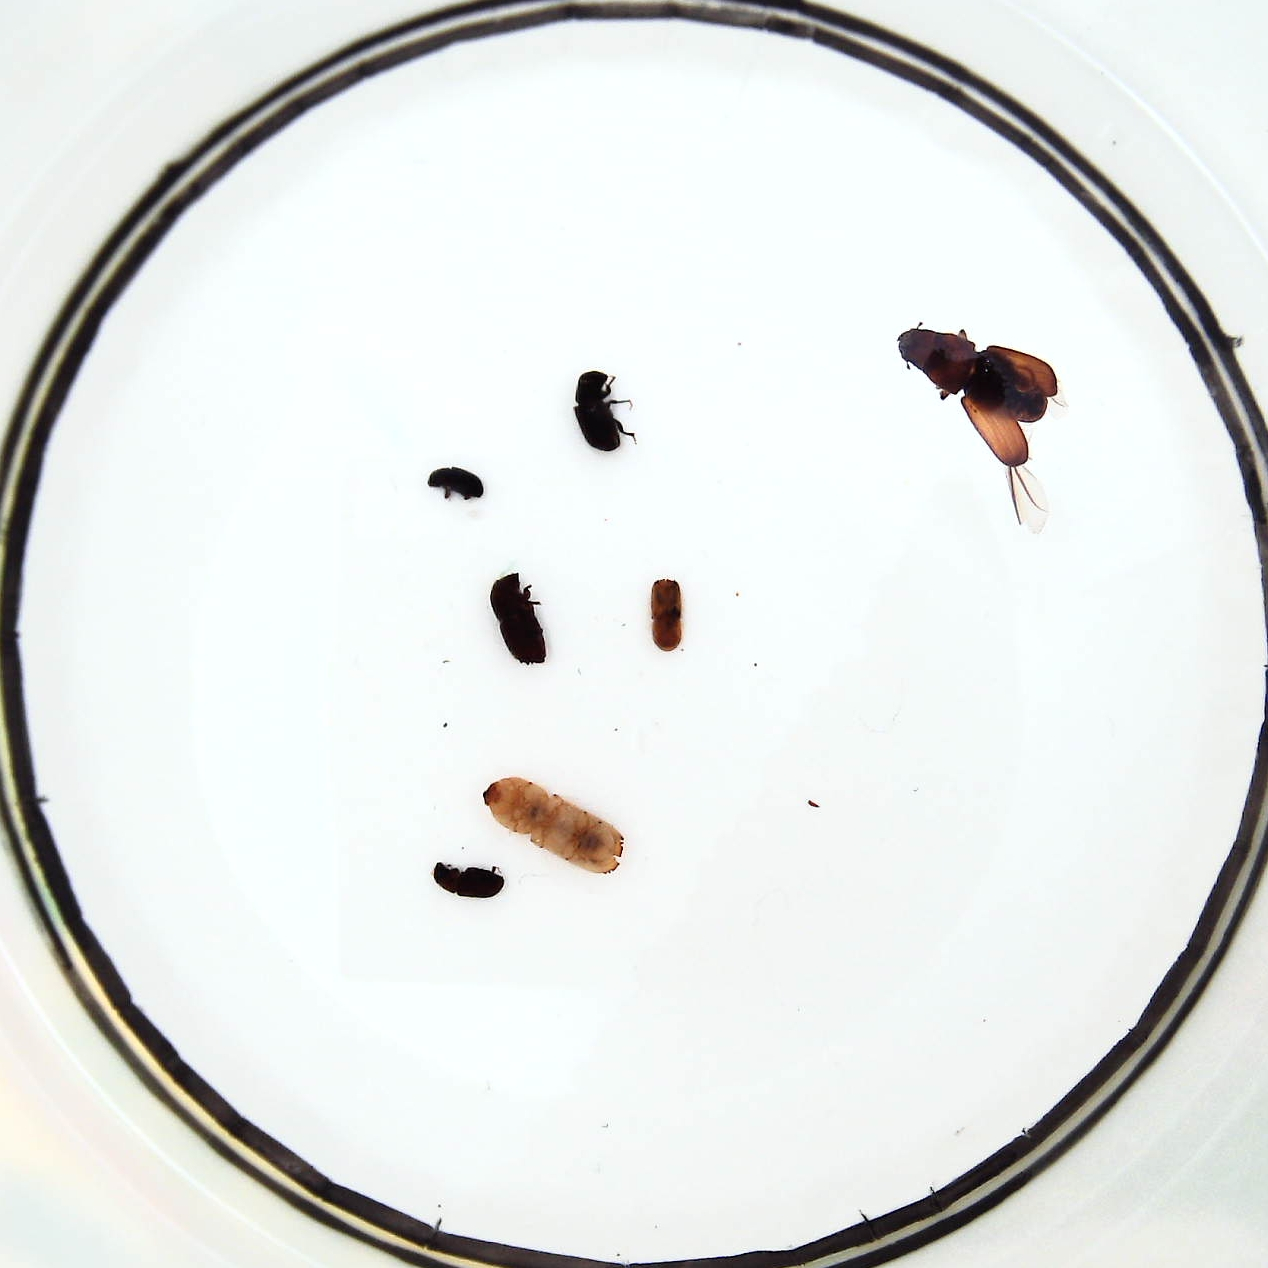Boerner: (487, 776, 633, 871)
Leconte: (899, 327, 1062, 483)
Linnaeus: (487, 565, 545, 668)
acuminatus: (648, 568, 679, 654)
armandi: (567, 368, 628, 449)
coleoptera: (426, 860, 504, 900), (428, 466, 480, 502)
